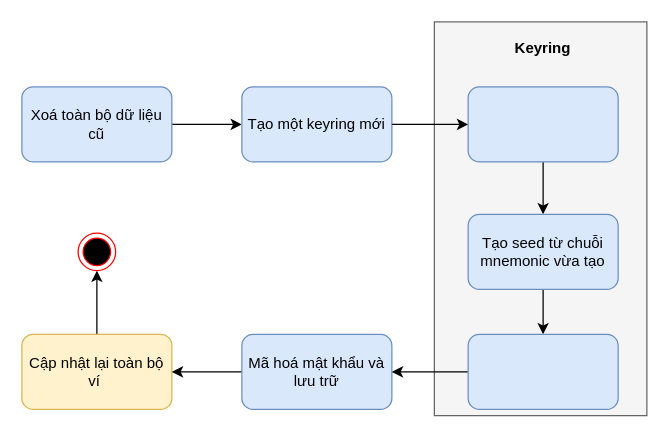
This 669x438 diagram has some shape labels left out. The box of each missing label's shape, as (x1, y1, x2, y2) in pixels:
Tạo một chuỗi mnemonic ngẫu nhiên: (467, 86, 618, 162)
Tạo tài khoản mới: (467, 333, 618, 409)
